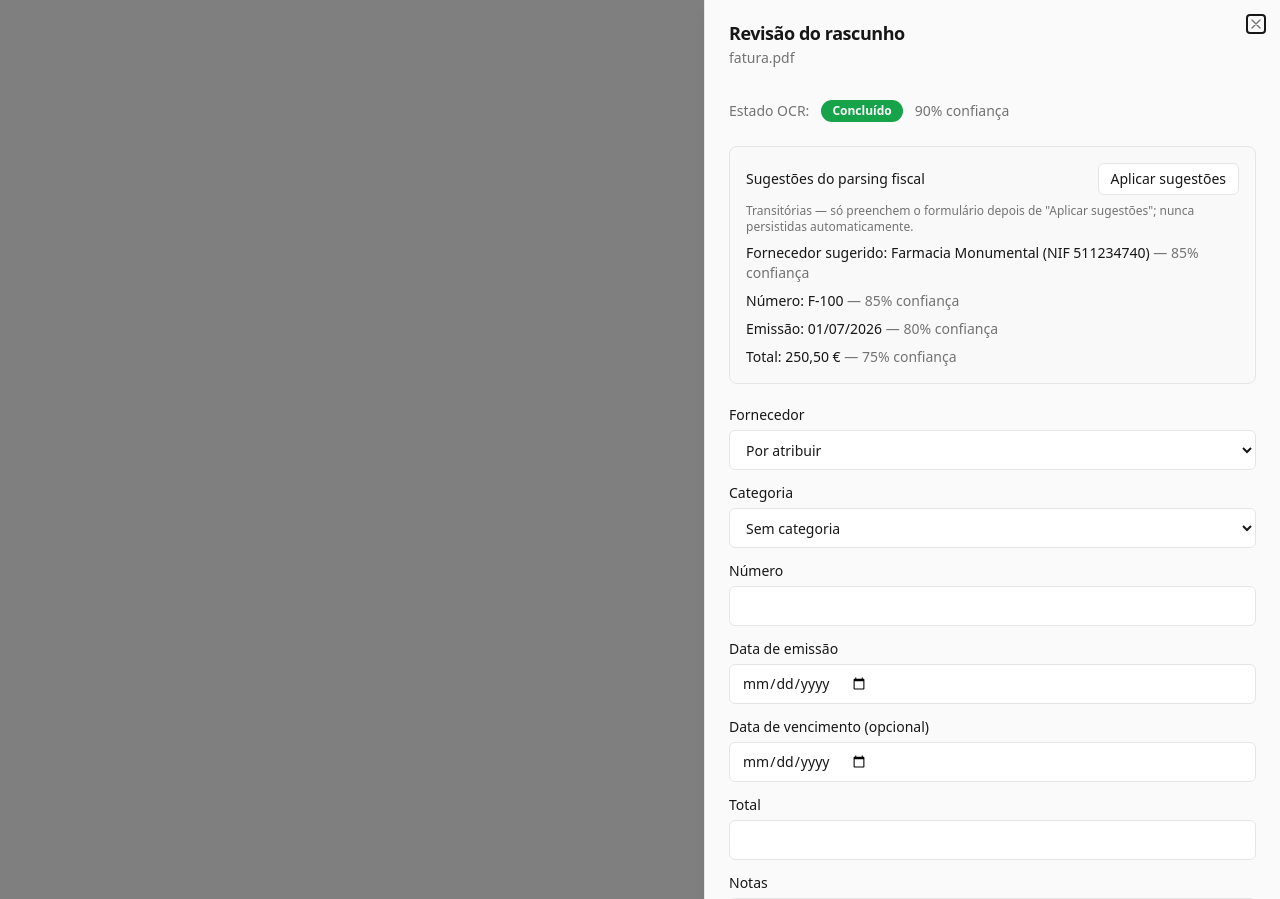
it: InvoiceDraftReviewSheet (Fase 6.8) › "Aplicar sugestões" resolve o fornecedor (correção Fase 6.8) › regressão real (validação manual, "Farmacia Monumental"/NIF 511234740): NIF sugerido sem correspondência RECUA para nome — fornecedor criado sem NIF (campo opci
Click the button "Aplicar sugestões" at (1168, 179), box [1098,163,1239,195]
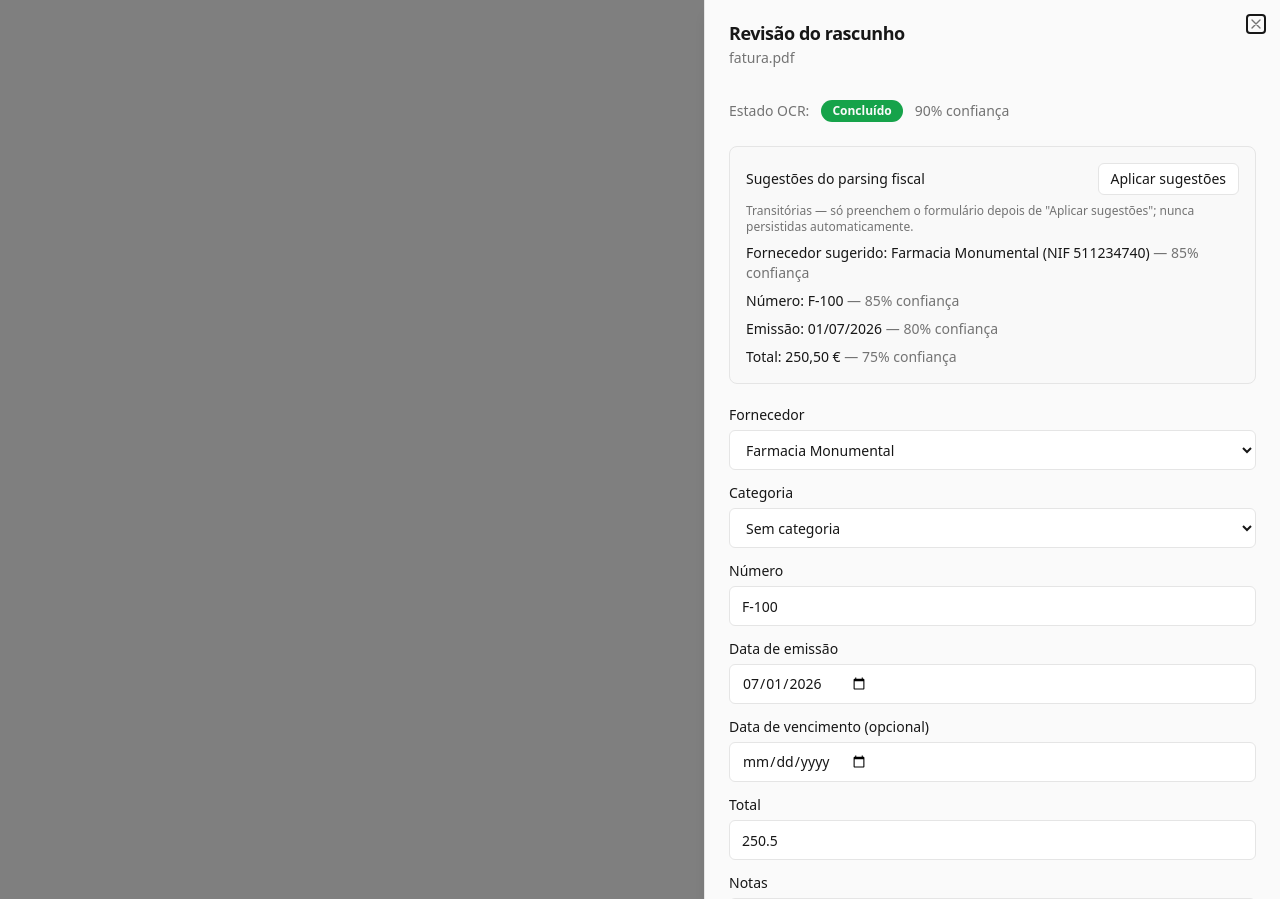
Now the 1st dropdown shows "Farmacia Monumental", box [729,430,1256,470]
